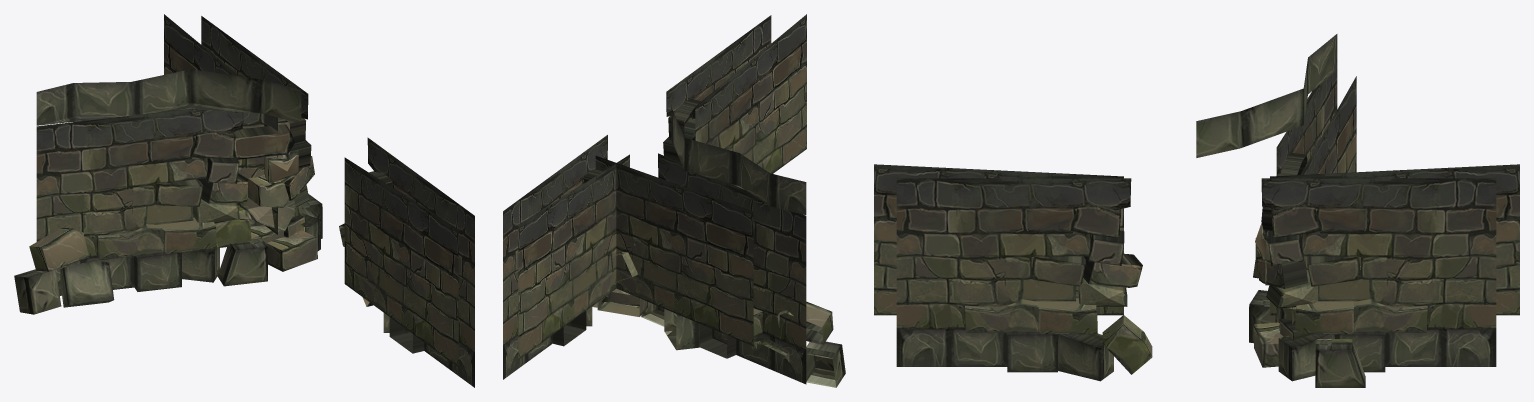
3 views of the same model, side by side, from view 1: azimuth 30°, elevation 25°; view 2: azimuth 150°, elevation 25°; view 3: azimuth 270°, elevation 25° (orthographic). The views are drawn at different scales.
Parts seen in each view (by area): view 1: Object001; view 2: Object001; view 3: Object001.
Part boxes in pixels (x1=…): Object001: x1=14, y1=14, x2=474, y2=387; Object001: x1=503, y1=14, x2=845, y2=387; Object001: x1=874, y1=34, x2=1519, y2=387.
Size of the model in its own units: 7.61 by 5.15 by 12.92.
